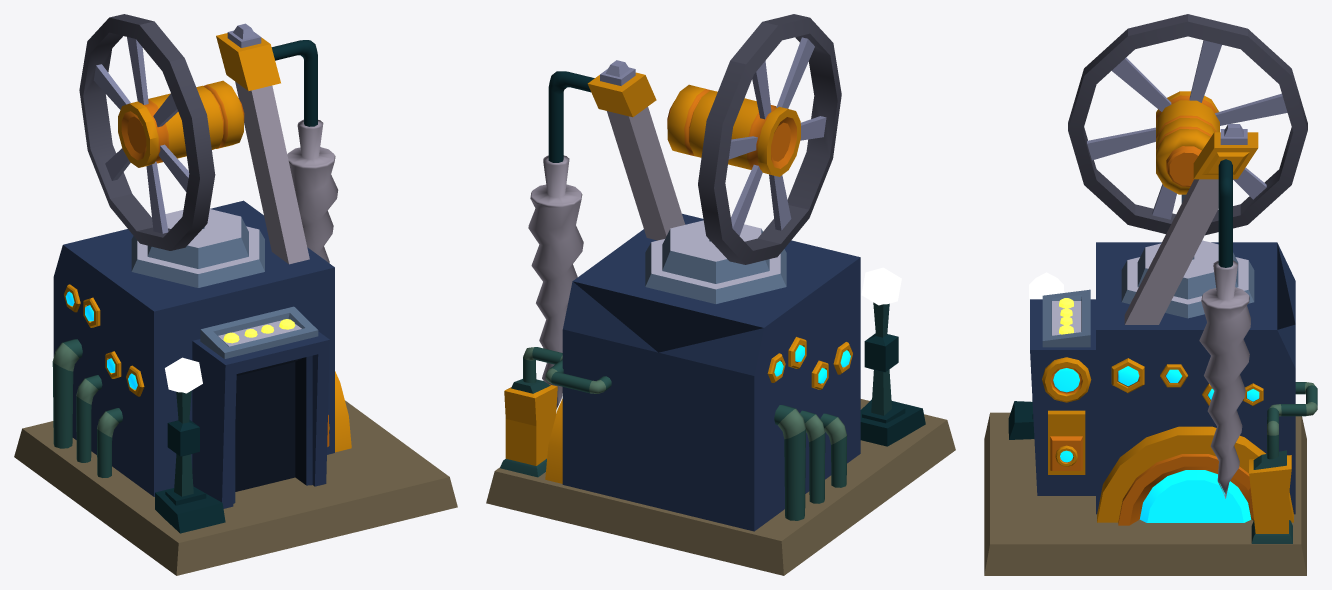
The model's file is Electric Miner.glb.
The picture shows the model from 3 angles, left to right: view 1: azimuth 30°, elevation 25°; view 2: azimuth 150°, elevation 25°; view 3: azimuth 270°, elevation 25°; orthographic projection. The views are drawn at different scales.
Parts seen in each view (by area): view 1: ElectriMinner.001; view 2: ElectriMinner.001; view 3: ElectriMinner.001.
Part boxes in pixels (bbox=[...]): ElectriMinner.001: bbox=[14, 14, 457, 575]; ElectriMinner.001: bbox=[486, 14, 955, 575]; ElectriMinner.001: bbox=[984, 14, 1317, 575].
Size of the model in its own units: 2 by 3.12 by 2.07.
1 material, 1 textured.
